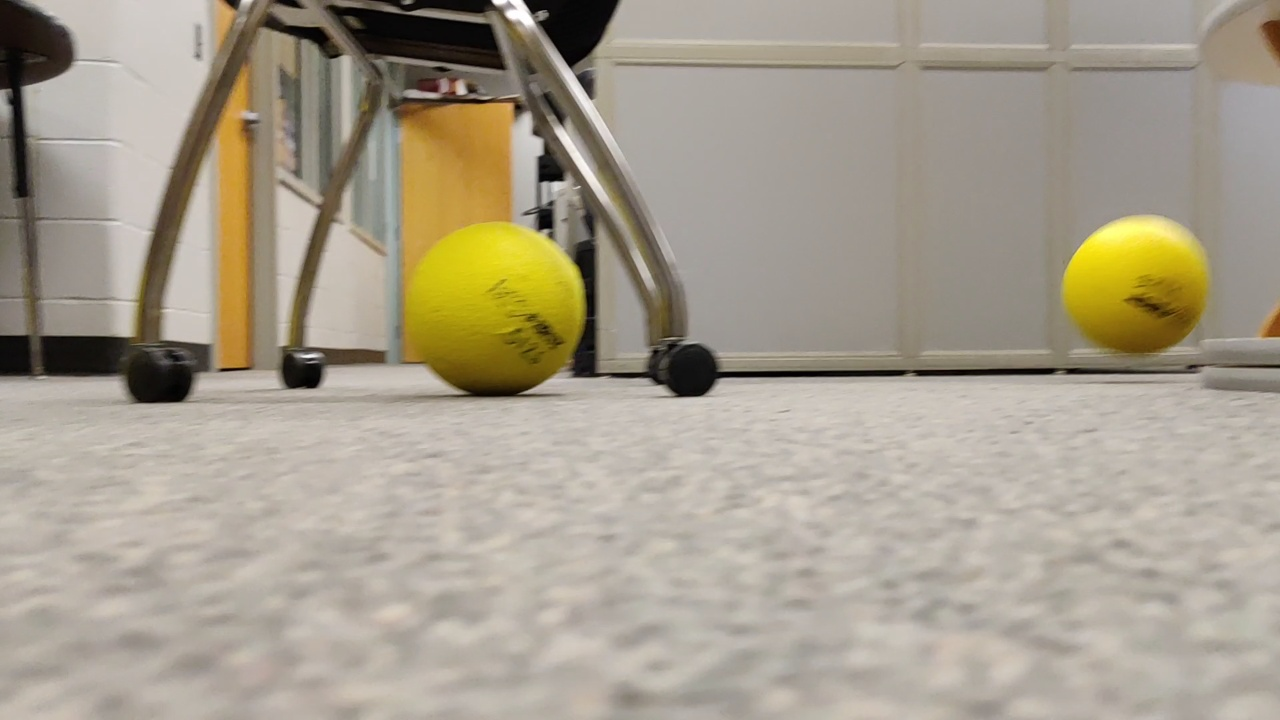Ball: (411, 221, 583, 391), (1063, 212, 1211, 356)
